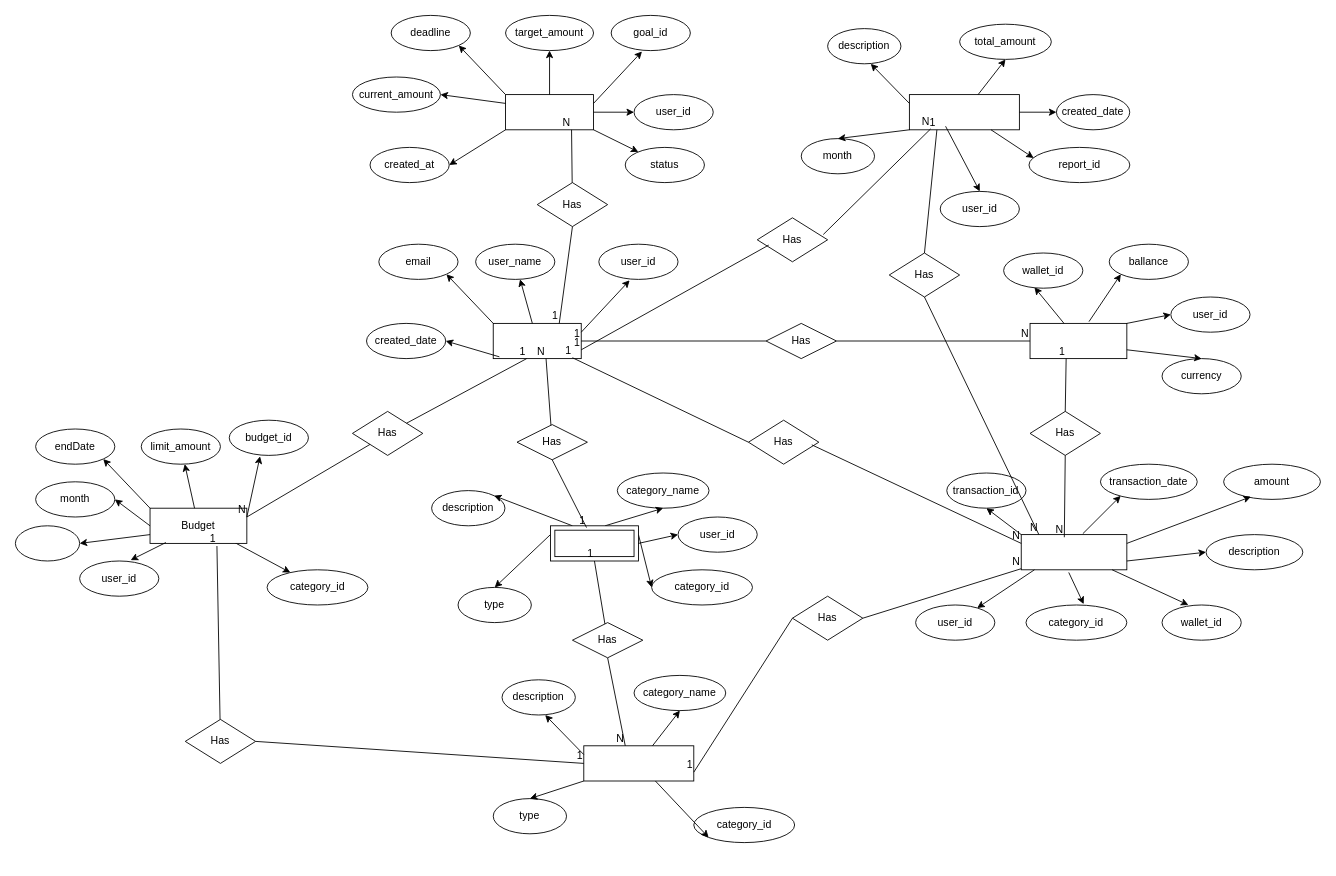
Some shapes in this 1336 by 876 pixel diagram are drawn without their labels. The centre of each missing label's shape, as x and y in pixels:
"Category" belongs at (638,763).
"Goal" belongs at (549,112).
"Report" belongs at (964,112).
"Transaction" belongs at (1073,552).
"User" belongs at (536,341).
"UserCategory" belongs at (594,543).
"Wallet" belongs at (1078,341).
"year" belongs at (47,543).
